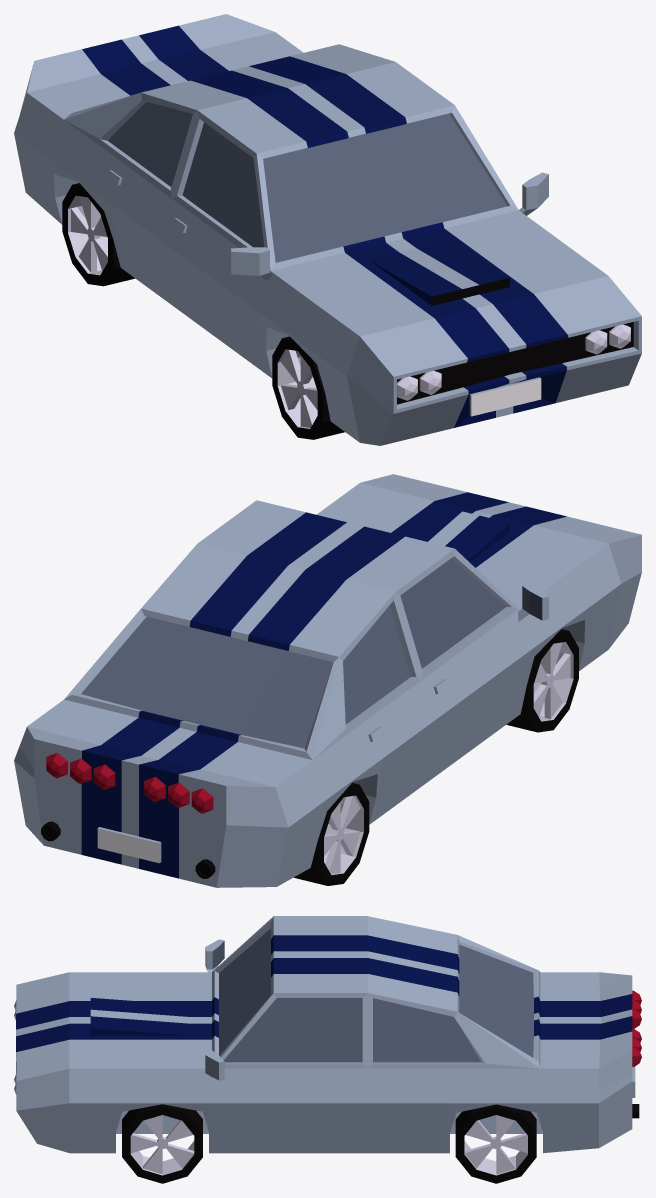
Rendered from Muscle_2.gltf.
3 renders of one model, top to bottom at view 1: azimuth 30°, elevation 25°; view 2: azimuth 150°, elevation 25°; view 3: azimuth 270°, elevation 25°, orthographic. The views are drawn at different scales.
Visible parts, largest first — view 1: Muscle_2, Muscle_2_wheel_front_right, Muscle_2_wheel_rear_right; view 2: Muscle_2, Muscle_2_wheel_front_right, Muscle_2_wheel_rear_right; view 3: Muscle_2, Muscle_2_wheel_front_left, Muscle_2_wheel_rear_left.
Boxes of the visible parts, <box> form: Muscle_2: <box>14,14,641,445</box>; Muscle_2_wheel_front_right: <box>272,336,344,439</box>; Muscle_2_wheel_rear_right: <box>62,183,134,286</box>; Muscle_2: <box>14,474,641,887</box>; Muscle_2_wheel_front_right: <box>506,629,578,732</box>; Muscle_2_wheel_rear_right: <box>294,783,369,885</box>; Muscle_2: <box>14,916,641,1153</box>; Muscle_2_wheel_front_left: <box>122,1104,202,1183</box>; Muscle_2_wheel_rear_left: <box>455,1104,536,1183</box>.
Bounding box in the file's own units: 281 × 191 × 606.
